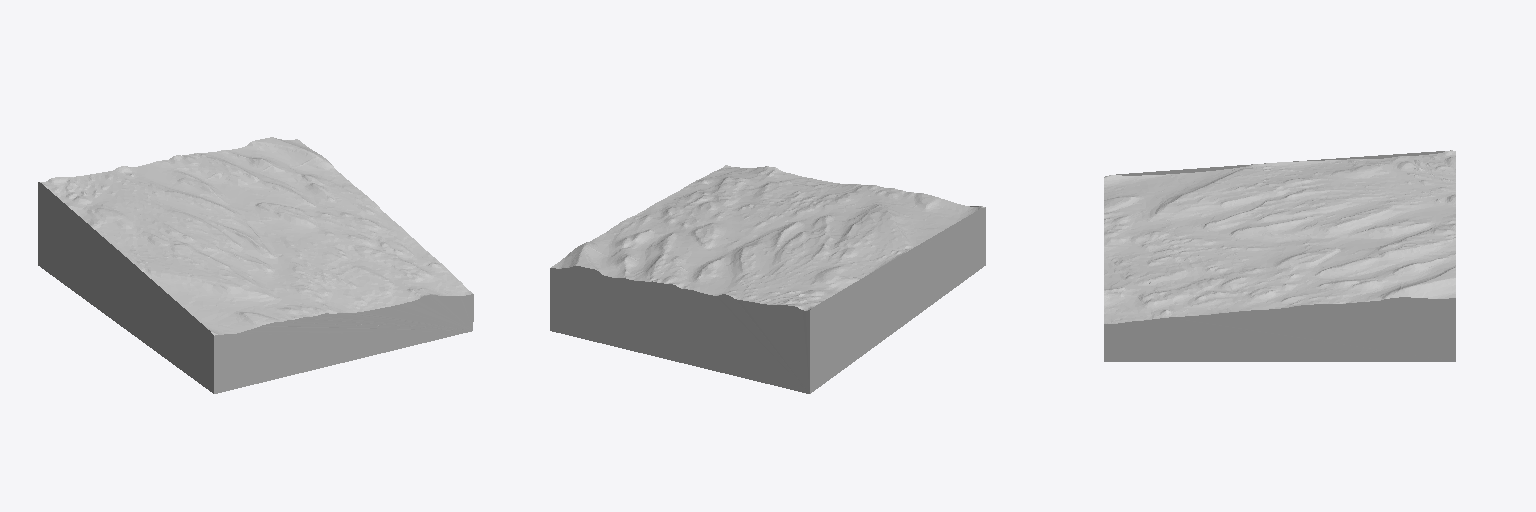
File: terrain4.obj
3 views of the same model, side by side, from view 1: azimuth 30°, elevation 25°; view 2: azimuth 150°, elevation 25°; view 3: azimuth 270°, elevation 25° (orthographic).
Parts seen in each view (by area): view 1: Cube_Cube.001; view 2: Cube_Cube.001; view 3: Cube_Cube.001.
Boxes of the visible parts, <box> form: Cube_Cube.001: <box>38,137,473,393</box>; Cube_Cube.001: <box>550,165,985,393</box>; Cube_Cube.001: <box>1104,150,1455,361</box>.
Size of the model in its own units: 59.52 by 18.59 by 69.82.